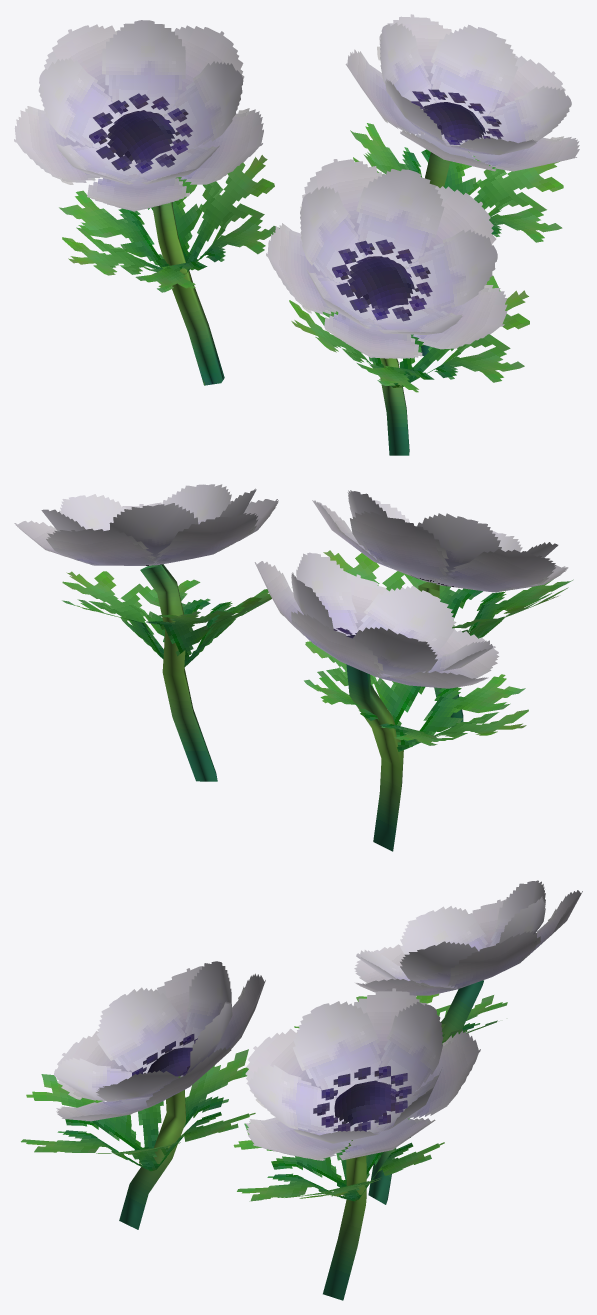
File: white-windflowers.glb
The picture shows the model from 3 angles, top to bottom: view 1: azimuth 30°, elevation 25°; view 2: azimuth 150°, elevation 25°; view 3: azimuth 270°, elevation 25°; orthographic projection. The views are drawn at different scales.
Bounding box in the file's own units: 9.97 × 6.03 × 10.17.
Materials: 2 (2 with a texture image).
